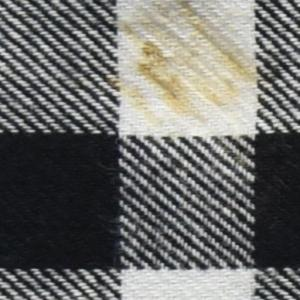Oil Stain: (106, 1, 262, 129)
